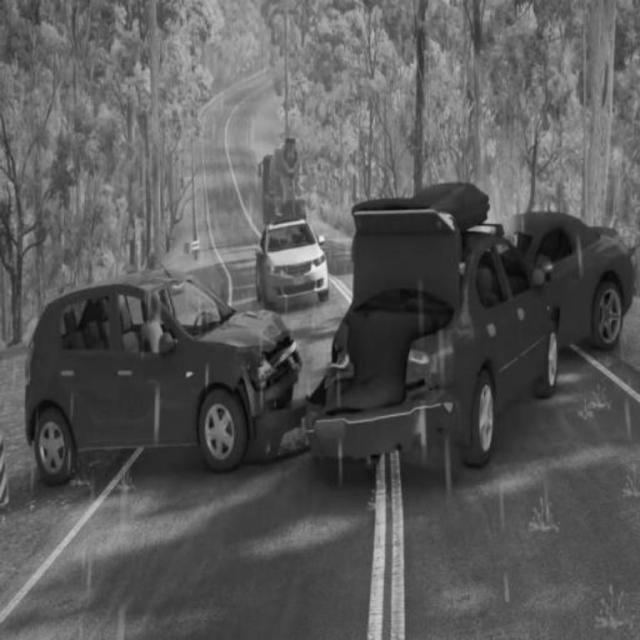accident: (325, 195, 632, 459)
vehicle: (22, 288, 295, 482), (257, 218, 333, 304)
